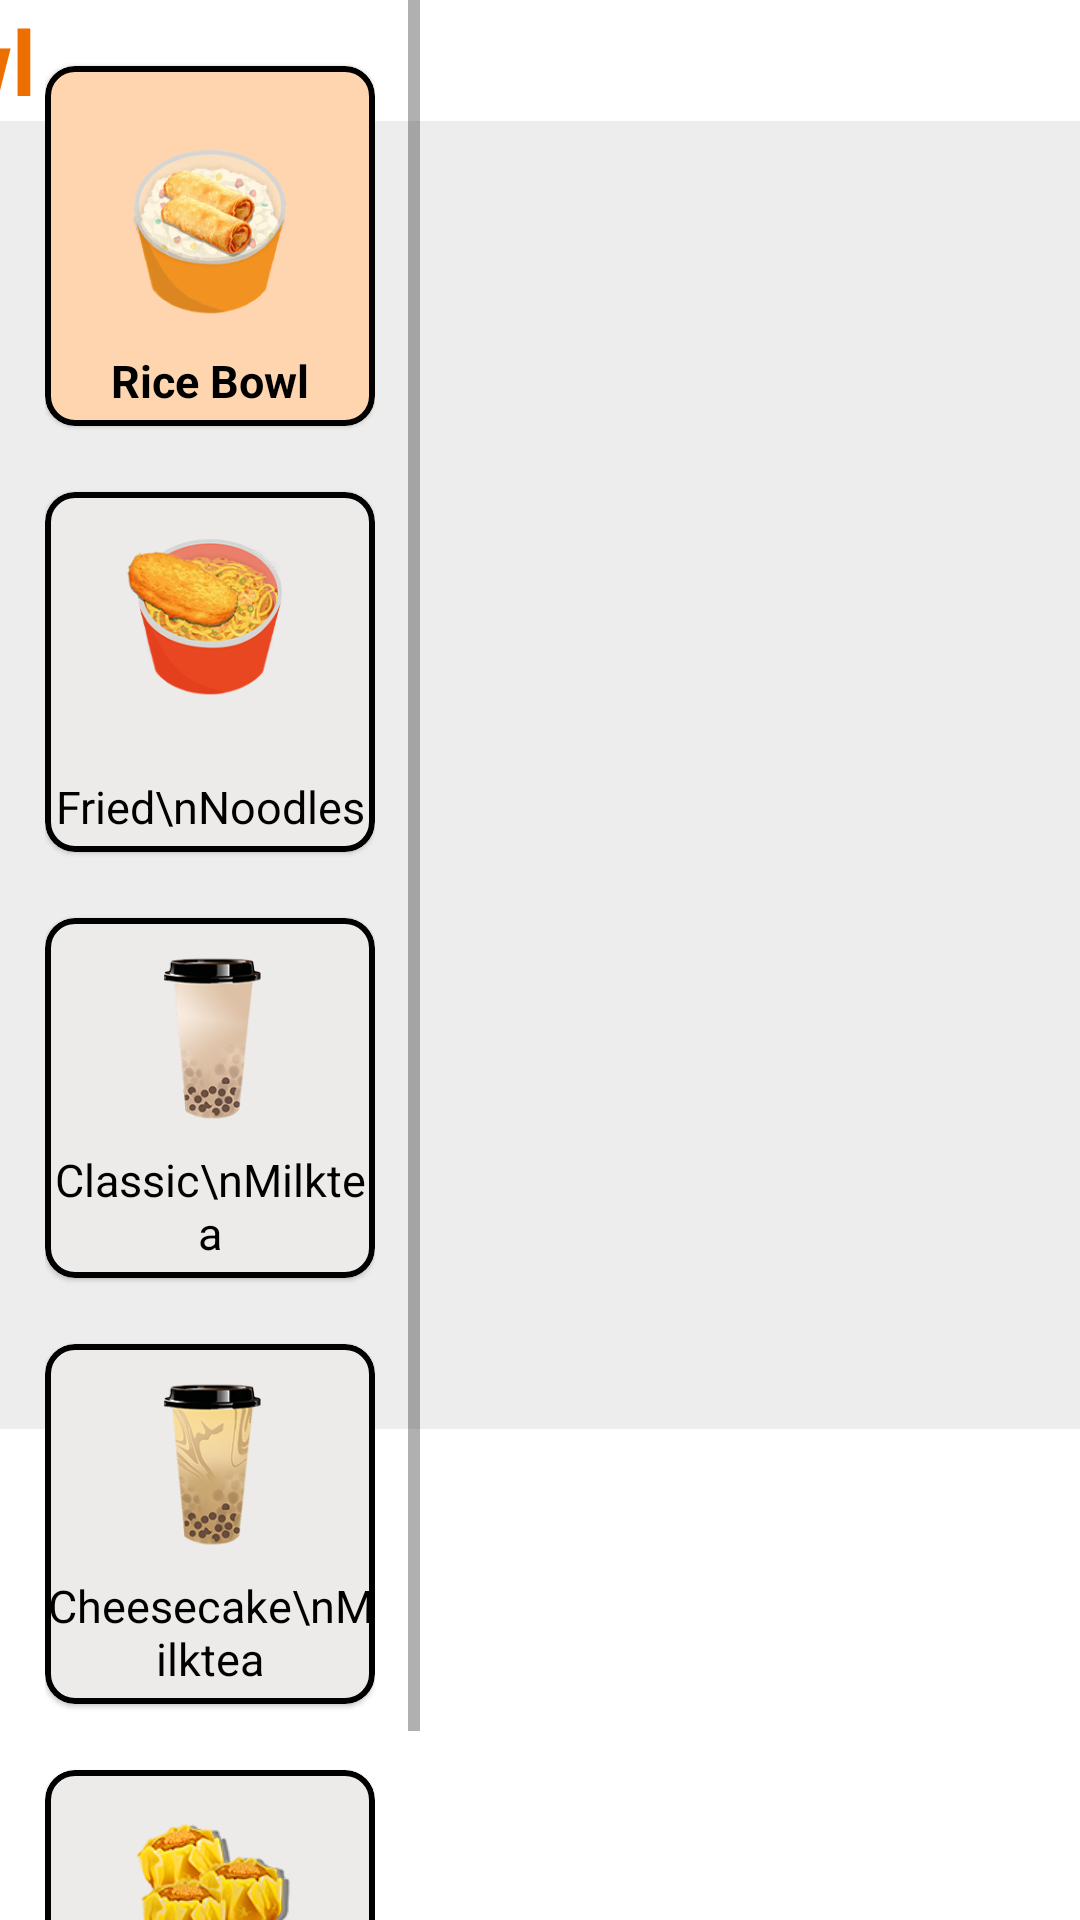

Screen size 1080px×1920px. Icon name, then its box in pixels as (x1, y1, x2, y2):
shanghai: (133, 150, 286, 314)
tongkatsu: (127, 540, 281, 695)
